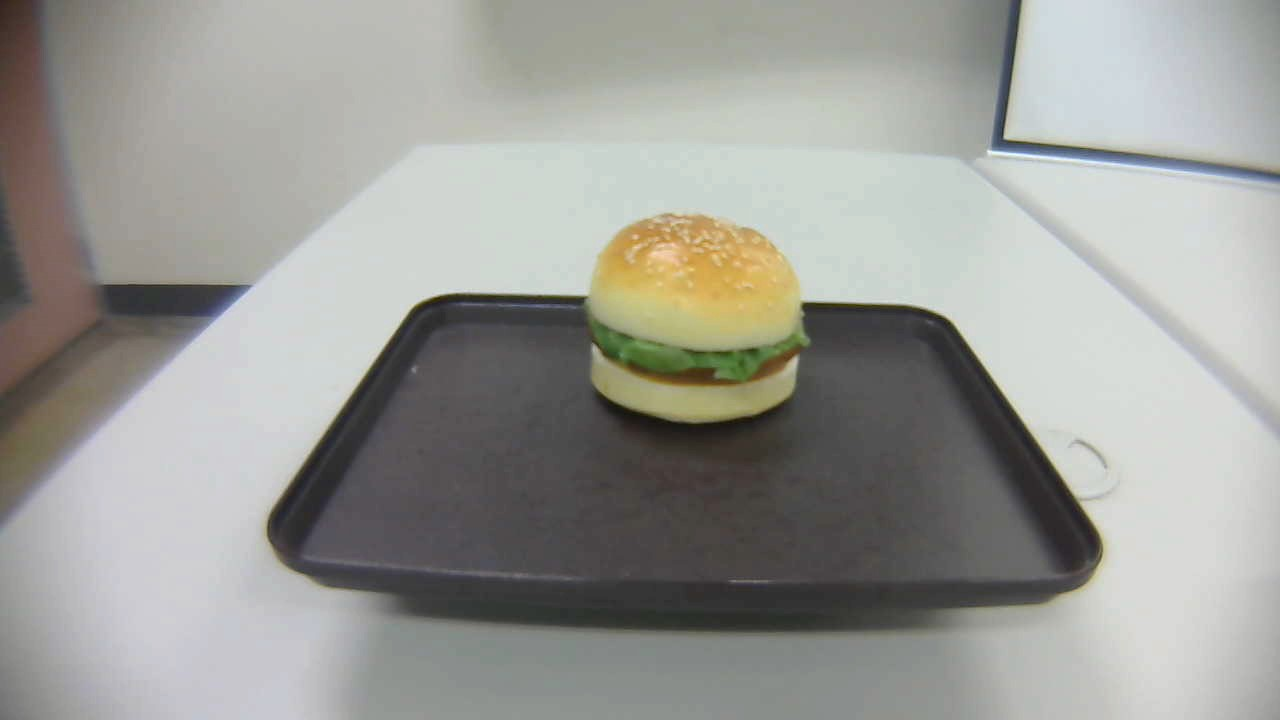hamburger: (586, 213, 812, 427)
